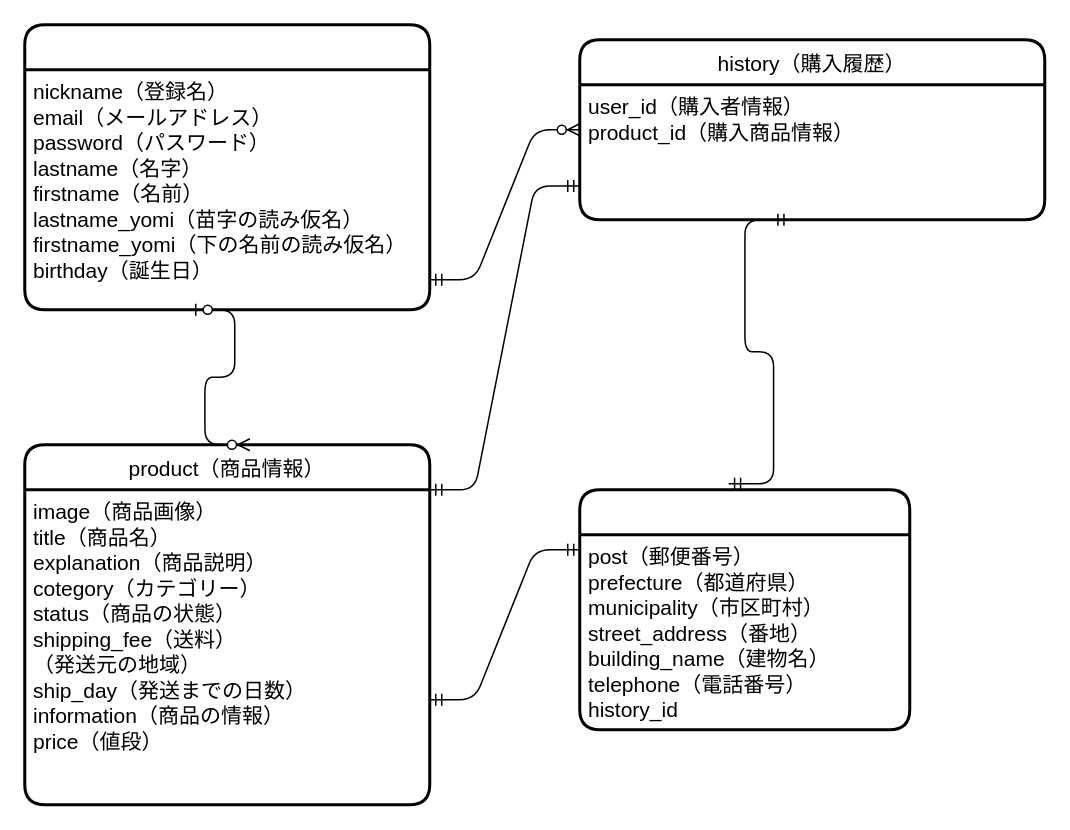
This 1070x830 diagram has some shape labels left out. The shapes that lost their labels are listed below. From the top down, each one's box as (x1, y1, x2, y2) in pixels, then its label:
(22, 22, 430, 310): user（ユーザー情報）
(578, 488, 910, 730): delivery（配送先情報）
